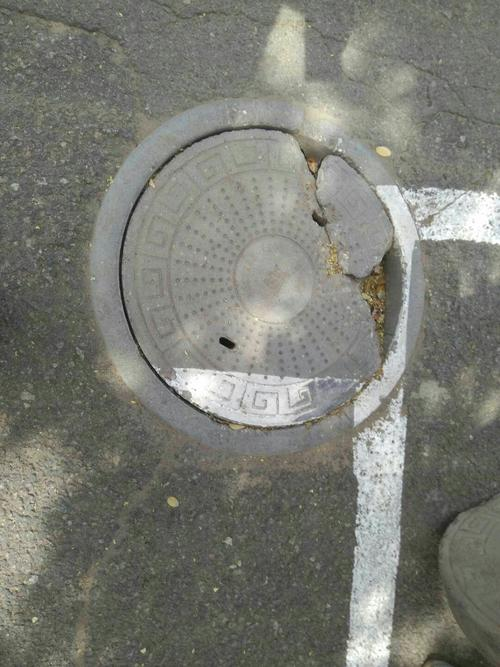broke: (75, 87, 434, 451)
